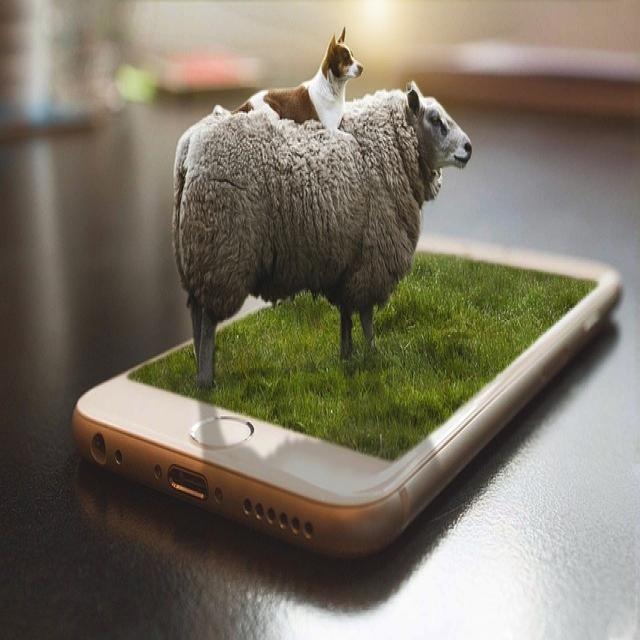goat: (172, 81, 473, 389)
